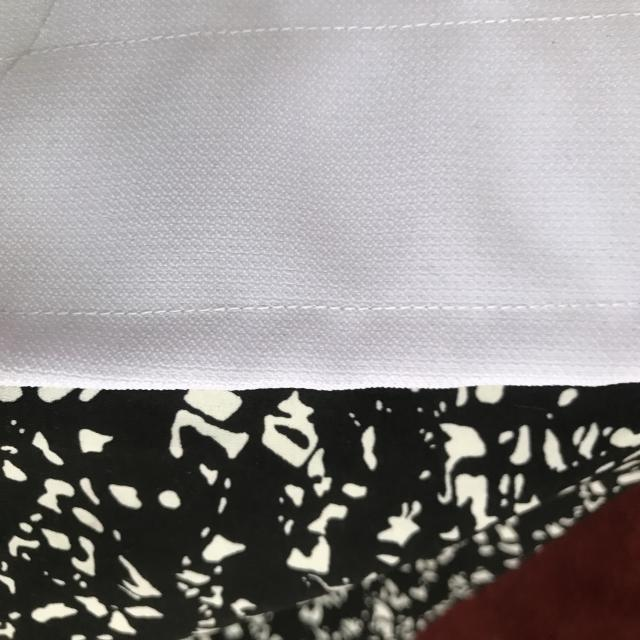good: (55, 303, 196, 326), (220, 298, 342, 320), (121, 26, 236, 48), (332, 18, 460, 36)
